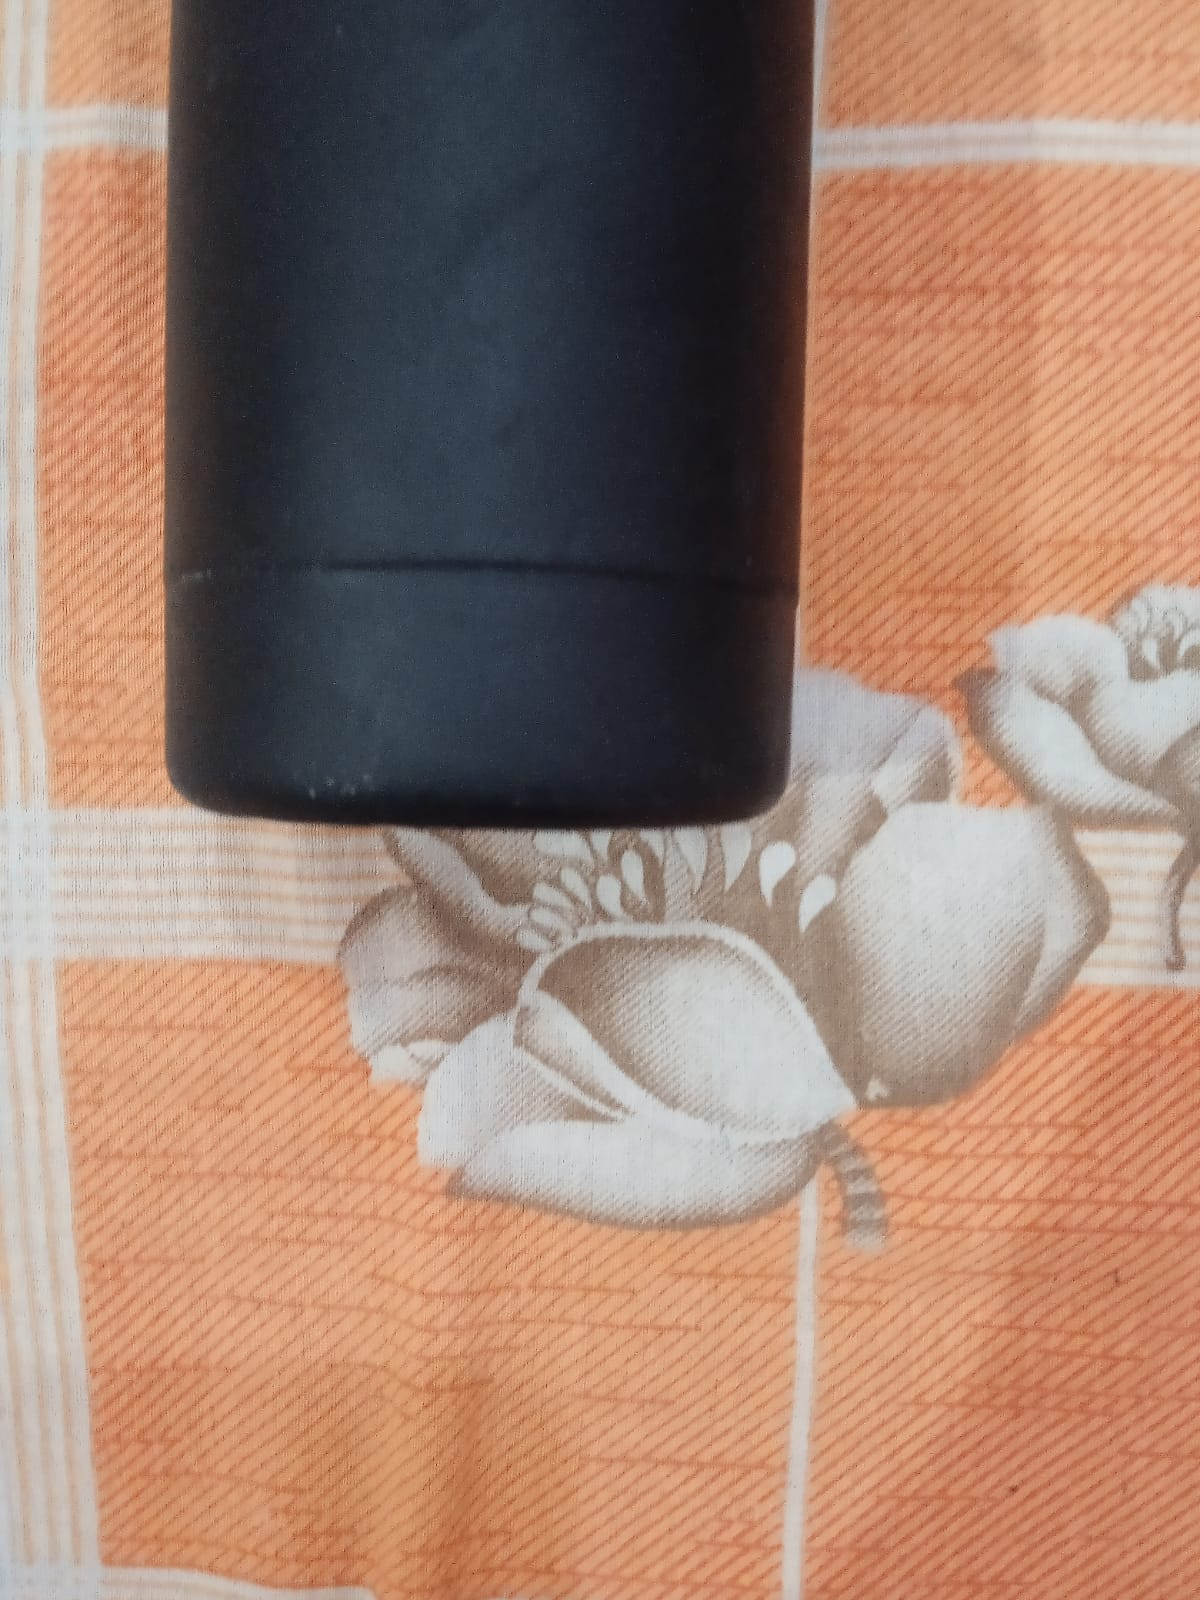bottle: (105, 6, 880, 853)
